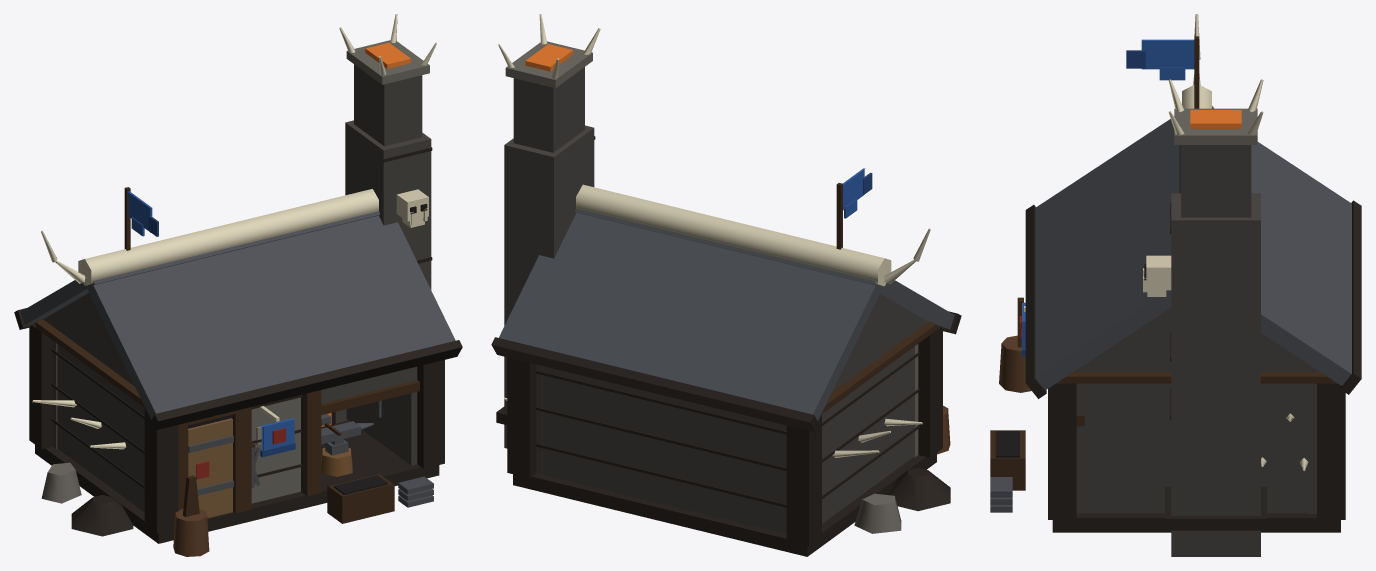
The model's file is orc-smithy.glb.
3 views of the same model, side by side, from view 1: azimuth 30°, elevation 25°; view 2: azimuth 150°, elevation 25°; view 3: azimuth 270°, elevation 25° (orthographic). The views are drawn at different scales.
Parts seen in each view (by area): view 1: orc-smithy; view 2: orc-smithy; view 3: orc-smithy.
Boxes of the visible parts, box(x1,y1,x2,y2) form: orc-smithy: box(14, 14, 462, 556); orc-smithy: box(491, 14, 961, 556); orc-smithy: box(990, 14, 1361, 556).
Size of the model in its own units: 8.09 by 7.72 by 5.8.
1 material, 1 textured.
